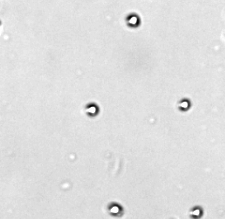Living Cell: (126, 13, 141, 27), (108, 202, 122, 216), (84, 103, 99, 116), (178, 98, 191, 111), (189, 206, 203, 218)
